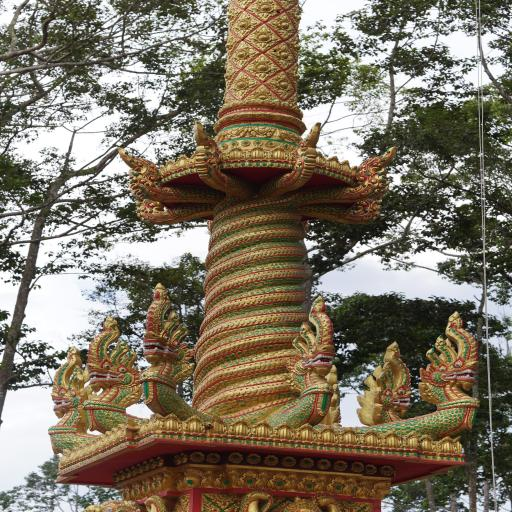hoa: (243, 24, 283, 52), (242, 56, 281, 80), (227, 13, 262, 39), (266, 71, 296, 98), (265, 43, 298, 66), (228, 42, 256, 69), (229, 71, 256, 99), (267, 13, 297, 38), (247, 0, 281, 20), (378, 463, 397, 477), (279, 454, 297, 468), (243, 452, 262, 465), (204, 451, 222, 464), (226, 451, 244, 464), (316, 457, 332, 471), (297, 456, 314, 469), (332, 459, 348, 472), (348, 460, 364, 473), (262, 453, 279, 465), (364, 462, 378, 476), (189, 451, 205, 463), (111, 470, 121, 484), (178, 452, 189, 464), (154, 455, 164, 467), (128, 463, 137, 476), (146, 458, 156, 469), (140, 459, 148, 472), (171, 454, 180, 465), (252, 138, 264, 146), (263, 140, 275, 148), (117, 468, 125, 480), (134, 462, 142, 474), (123, 466, 130, 478), (218, 142, 228, 150), (229, 140, 239, 147), (240, 139, 250, 146), (279, 142, 289, 149)
la: (232, 468, 264, 490), (262, 470, 293, 491), (175, 468, 203, 490), (294, 471, 321, 493), (326, 474, 352, 494), (205, 468, 224, 488), (356, 480, 375, 500), (150, 474, 164, 493), (128, 483, 143, 500), (140, 478, 154, 496), (119, 484, 133, 500)
ran: (370, 308, 479, 446), (249, 292, 349, 438), (128, 281, 223, 428), (78, 316, 156, 438), (40, 342, 106, 456), (117, 145, 227, 205), (307, 142, 402, 204), (190, 120, 258, 202), (357, 338, 415, 428), (260, 122, 324, 202), (302, 195, 388, 226), (132, 196, 215, 224)
